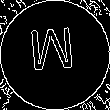M_S: (30, 28, 80, 82)
